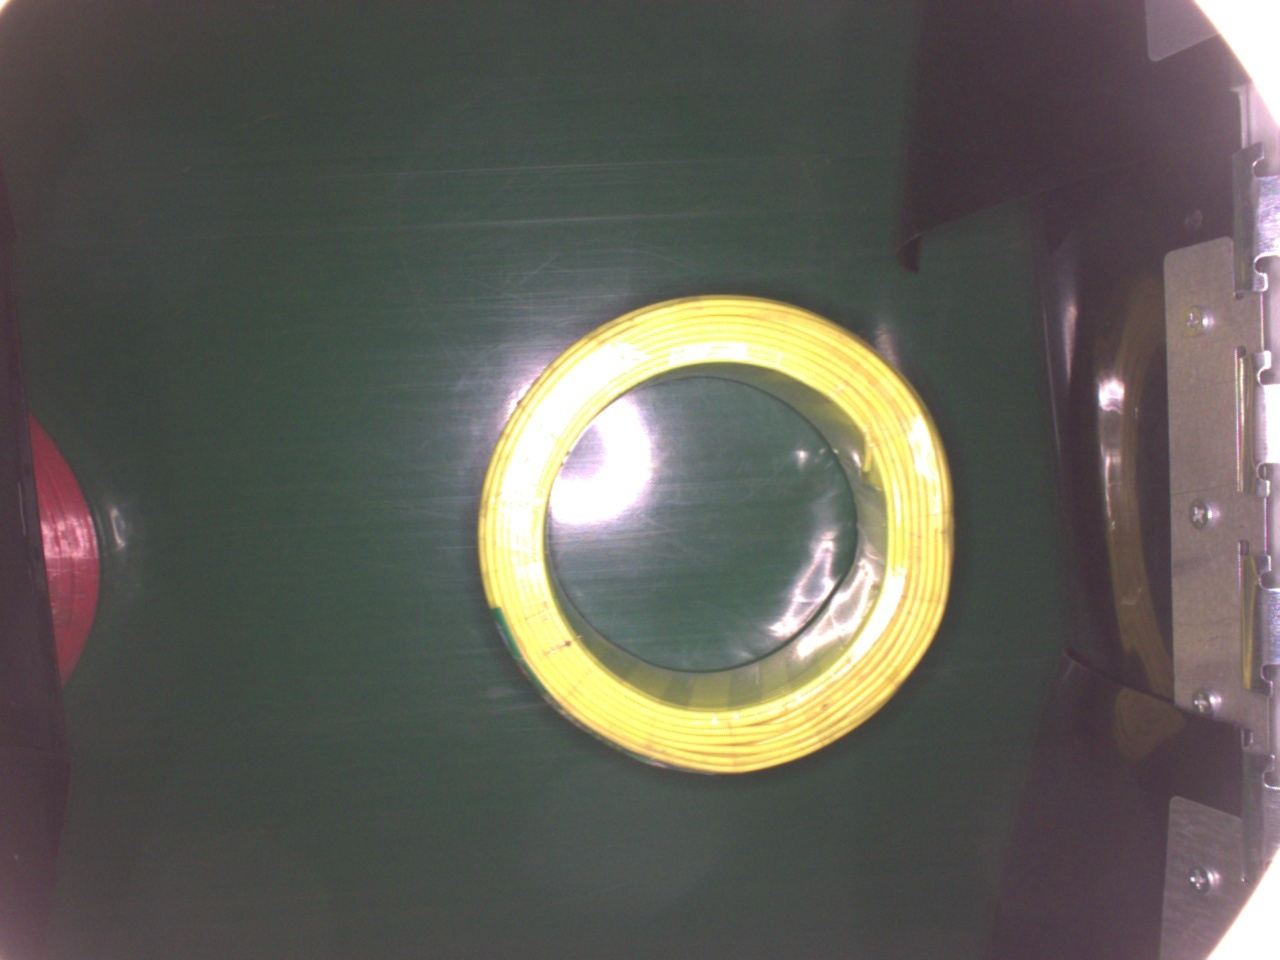yellow: (474, 291, 958, 778)
